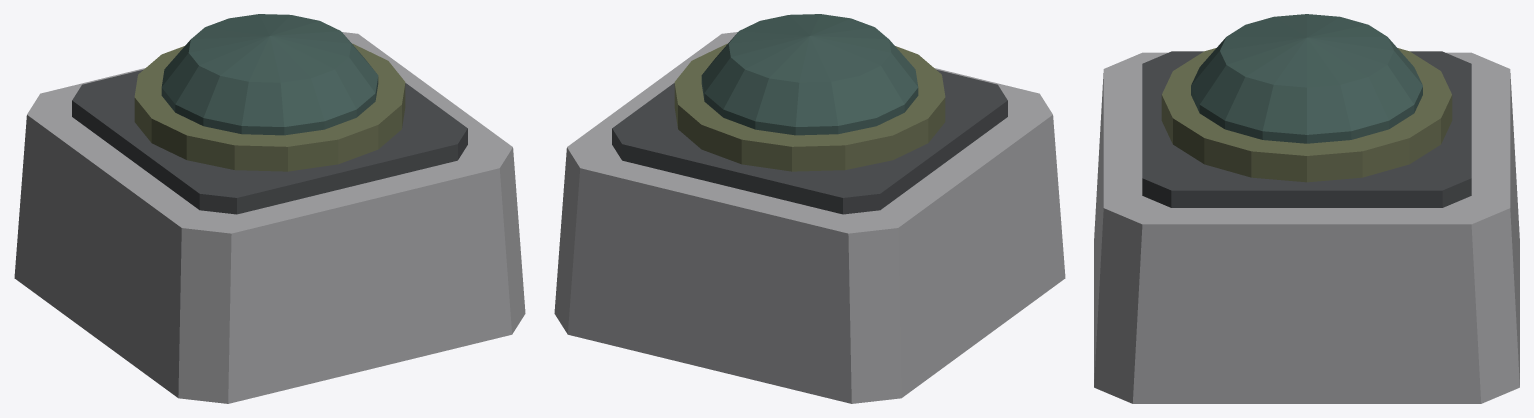
Rendered from pilot_subpersona_core.obj.
The picture shows the model from 3 angles, left to right: view 1: azimuth 30°, elevation 25°; view 2: azimuth 150°, elevation 25°; view 3: azimuth 270°, elevation 25°; orthographic projection. The views are drawn at different scales.
Parts seen in each view (by area): view 1: pilot_subpersona_core_0, pilot_subpersona_core_3, pilot_subpersona_core_1, pilot_subpersona_core_2; view 2: pilot_subpersona_core_0, pilot_subpersona_core_3, pilot_subpersona_core_1, pilot_subpersona_core_2; view 3: pilot_subpersona_core_0, pilot_subpersona_core_3, pilot_subpersona_core_1, pilot_subpersona_core_2.
Boxes of the visible parts, x1,y1,x2,y2 form: pilot_subpersona_core_0: (14, 32, 525, 403); pilot_subpersona_core_3: (161, 14, 378, 135); pilot_subpersona_core_1: (72, 69, 467, 214); pilot_subpersona_core_2: (134, 43, 405, 171); pilot_subpersona_core_0: (554, 32, 1065, 403); pilot_subpersona_core_3: (701, 14, 918, 135); pilot_subpersona_core_1: (612, 69, 1007, 214); pilot_subpersona_core_2: (674, 43, 945, 171); pilot_subpersona_core_0: (1094, 52, 1519, 403); pilot_subpersona_core_3: (1191, 14, 1422, 143); pilot_subpersona_core_1: (1142, 51, 1471, 207); pilot_subpersona_core_2: (1161, 48, 1452, 182).
Bounding box in the file's own units: 0.88 × 0.63 × 0.88.
